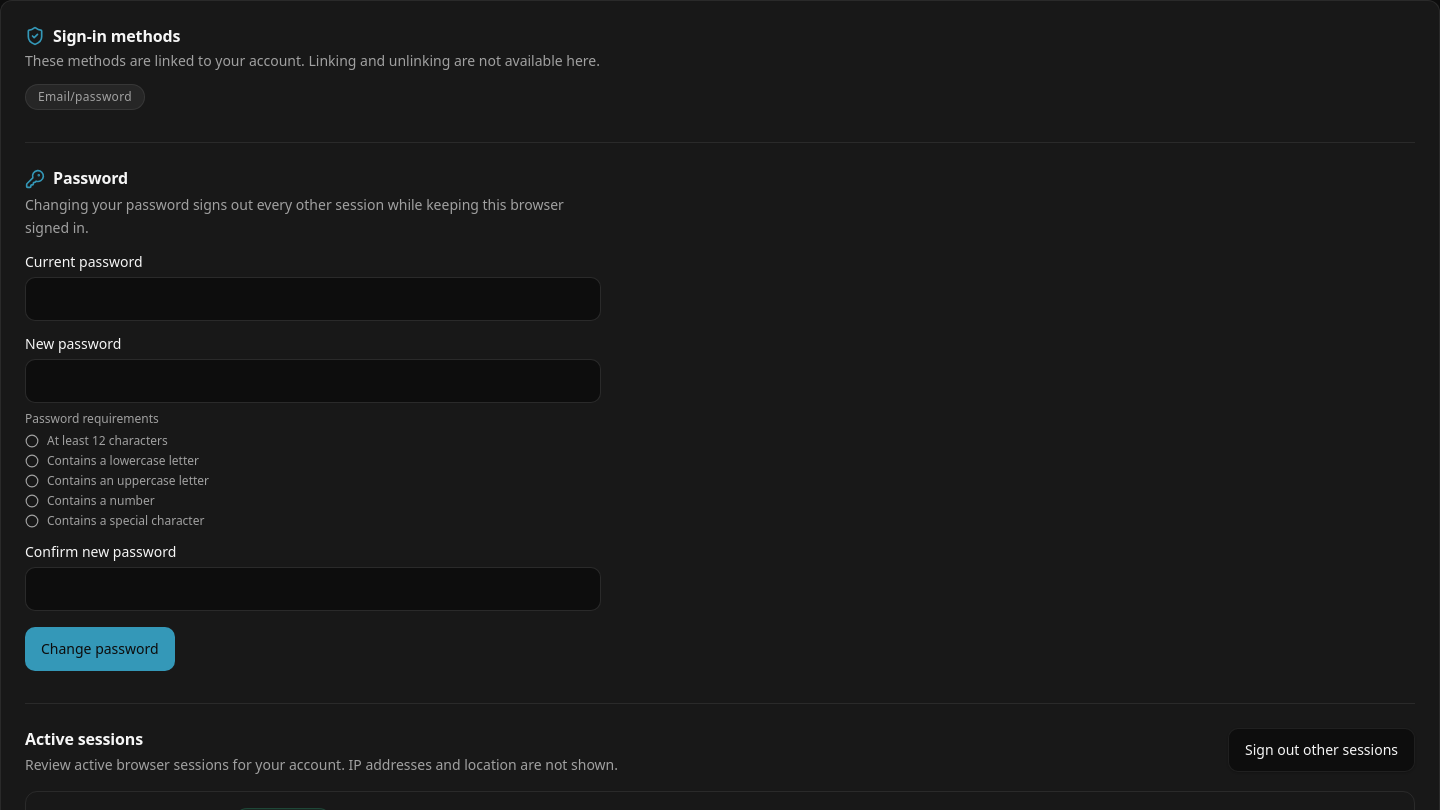
Test: SecuritySection › clears password fields and reconciles other sessions after canonical success
This screenshot has width=1440, height=810.
In the password field labelled "Current password": coordinates (313, 299) x1=25 y1=277 x2=601 y2=321, type "Current1!secure"
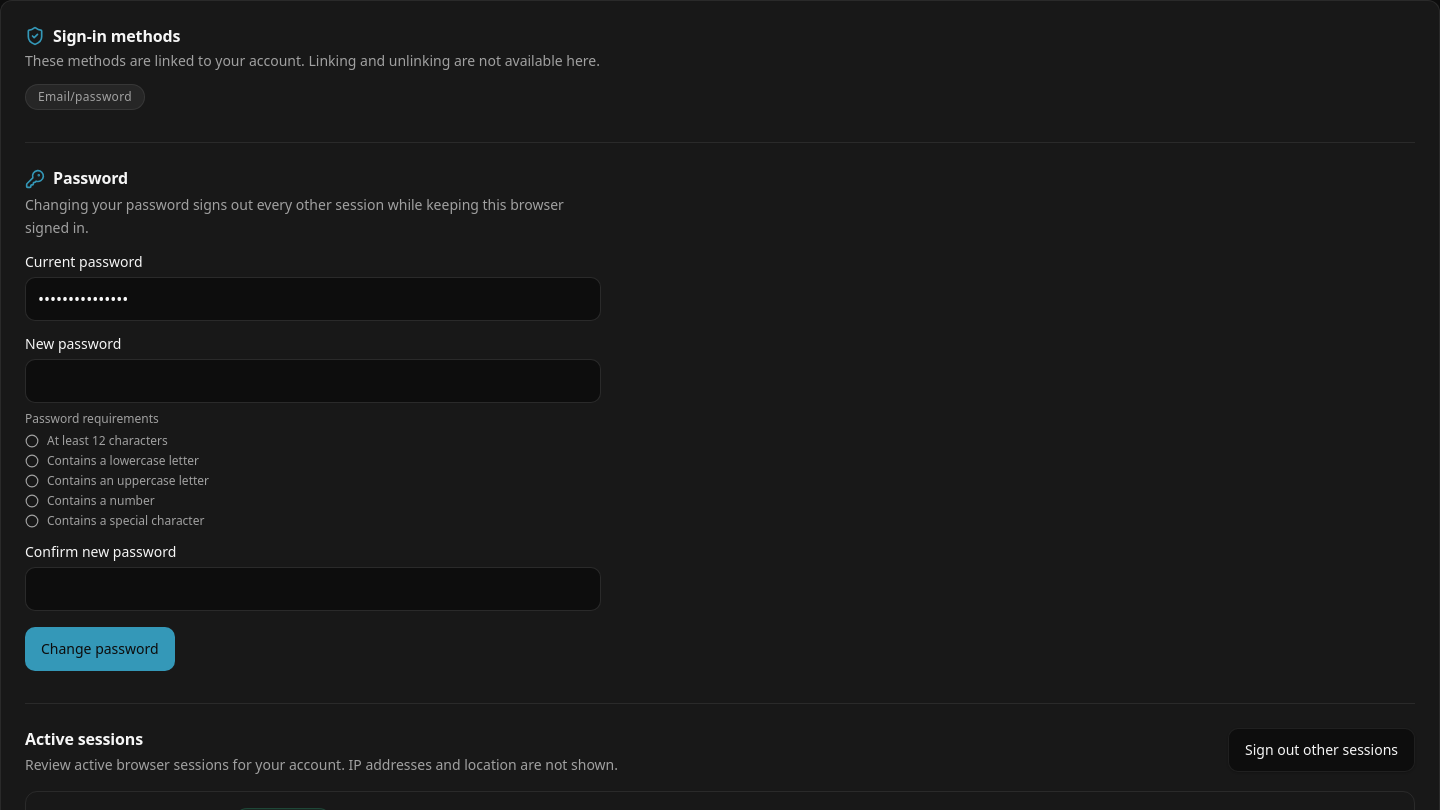
In the password field labelled "New password": coordinates (313, 381) x1=25 y1=359 x2=601 y2=403, type "Different2!secure"
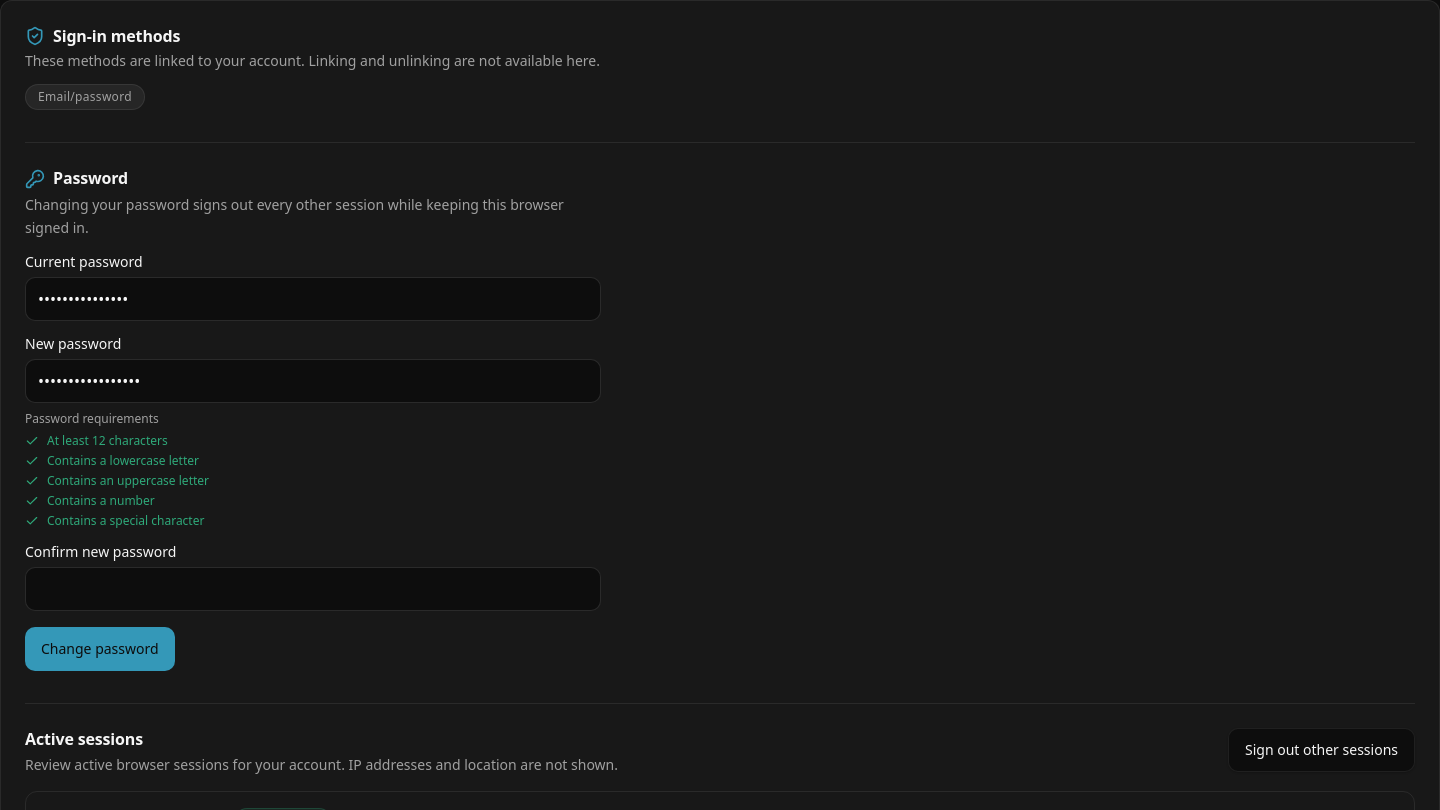
In the password field labelled "Confirm new password": coordinates (313, 589) x1=25 y1=567 x2=601 y2=611, type "Different2!secure"
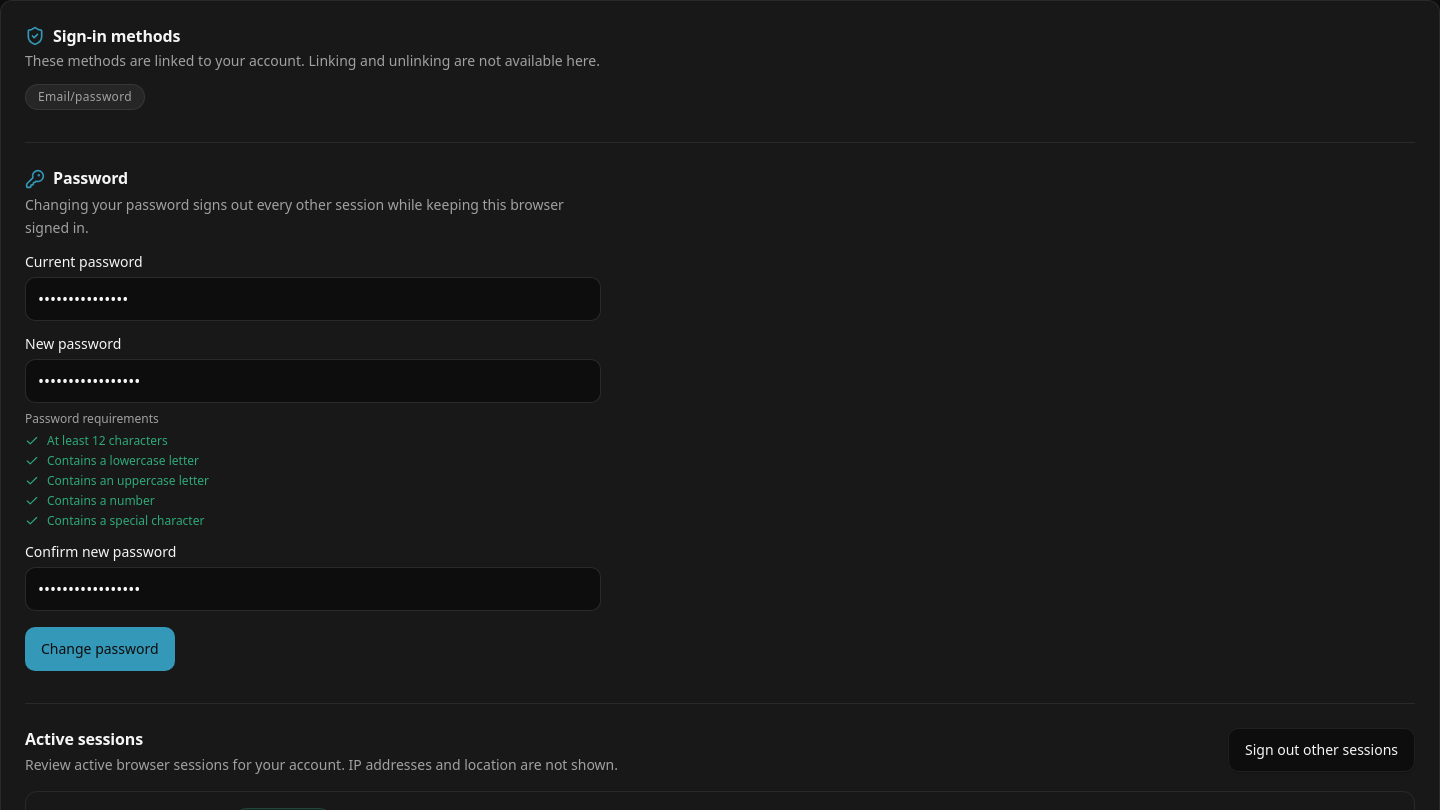
Click the button "Change password": coordinates (100, 649) x1=25 y1=627 x2=175 y2=671
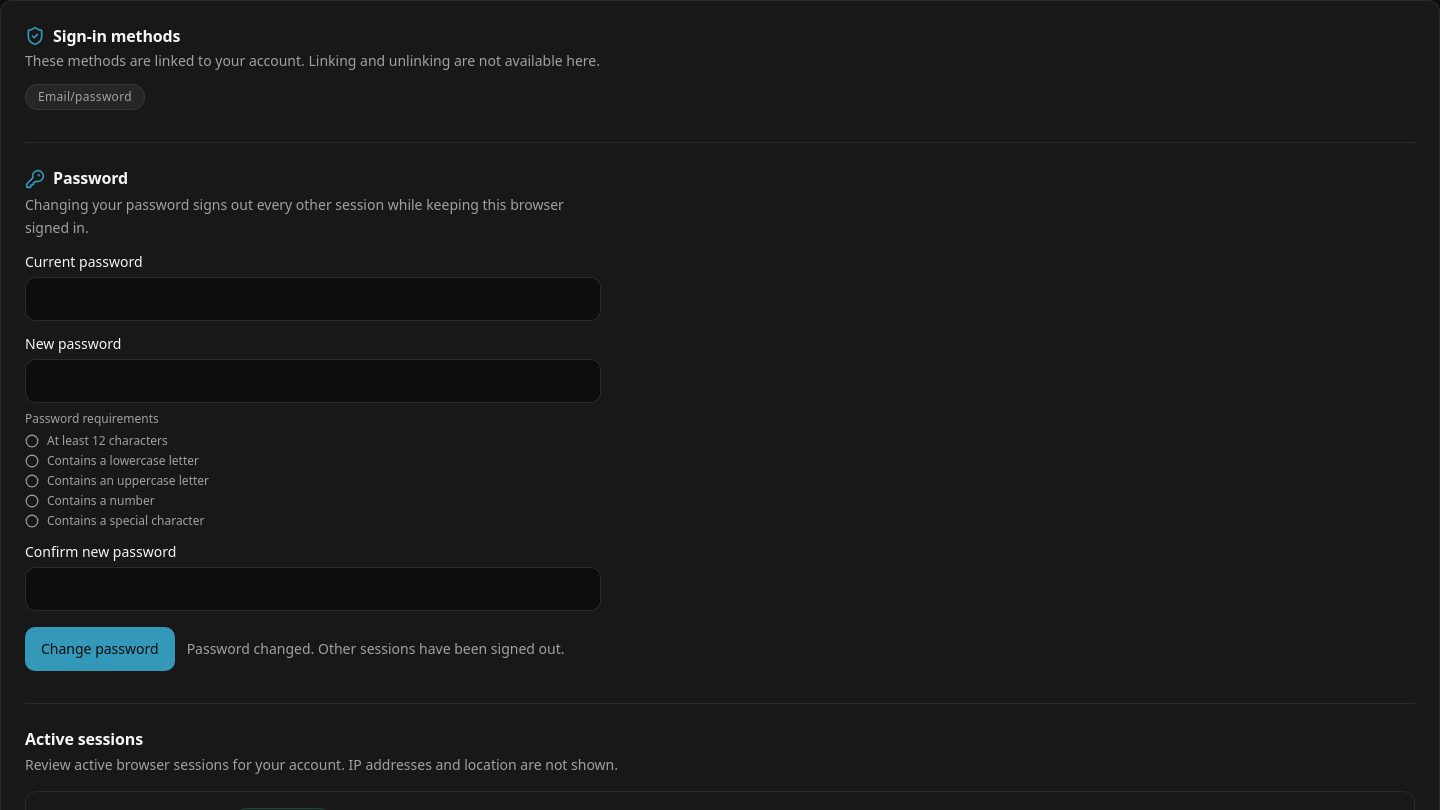
Result: the text "Password changed. Other sessions have been signed out." is shown at x1=187 y1=639 x2=564 y2=659
Result: the password field labelled "Current password" is empty at x1=25 y1=277 x2=601 y2=321
Result: the password field labelled "New password" is empty at x1=25 y1=359 x2=601 y2=403
